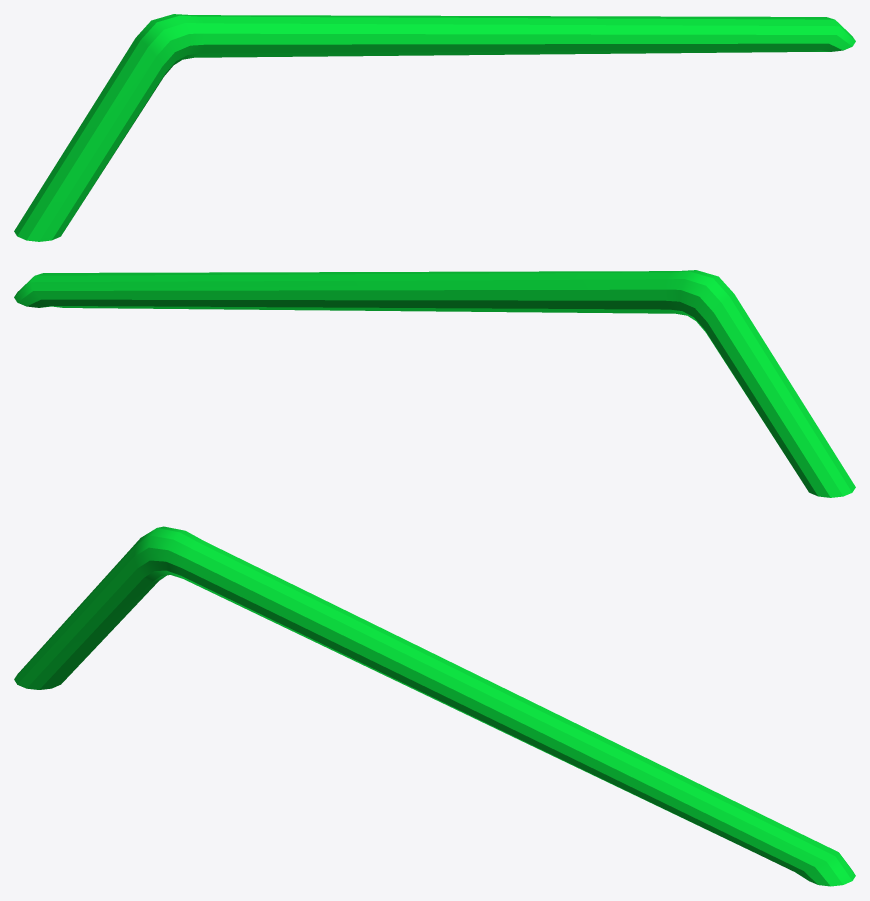
Rendered from Roll_Over_Metal.fbx.
3 views of the same model, one above another, from view 1: azimuth 30°, elevation 25°; view 2: azimuth 150°, elevation 25°; view 3: azimuth 330°, elevation 25° (orthographic).
Parts seen in each view (by area): view 1: Roll_Over_Metal; view 2: Roll_Over_Metal; view 3: Roll_Over_Metal.
Boxes of the visible parts, bbox=[...] form: Roll_Over_Metal: bbox=[14, 14, 855, 241]; Roll_Over_Metal: bbox=[14, 270, 855, 497]; Roll_Over_Metal: bbox=[14, 526, 855, 886].
Bounding box in the file's own units: 3.21 × 0.679 × 0.1676.
